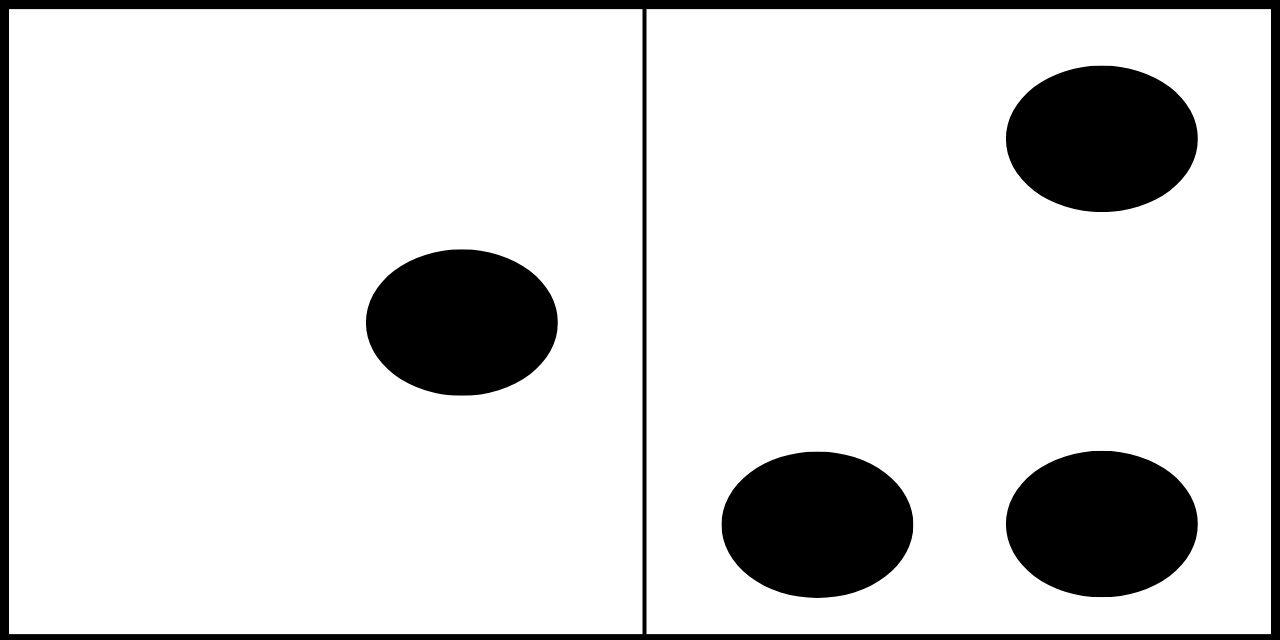dot_5: (77, 66, 561, 600)
two_cell_non_alphabet_ukol: (720, 65, 1202, 602)
